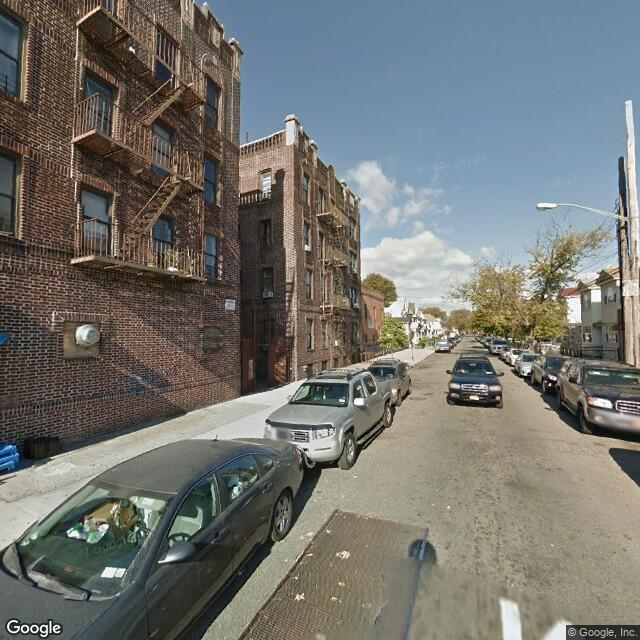litter: (18, 429, 74, 471)
